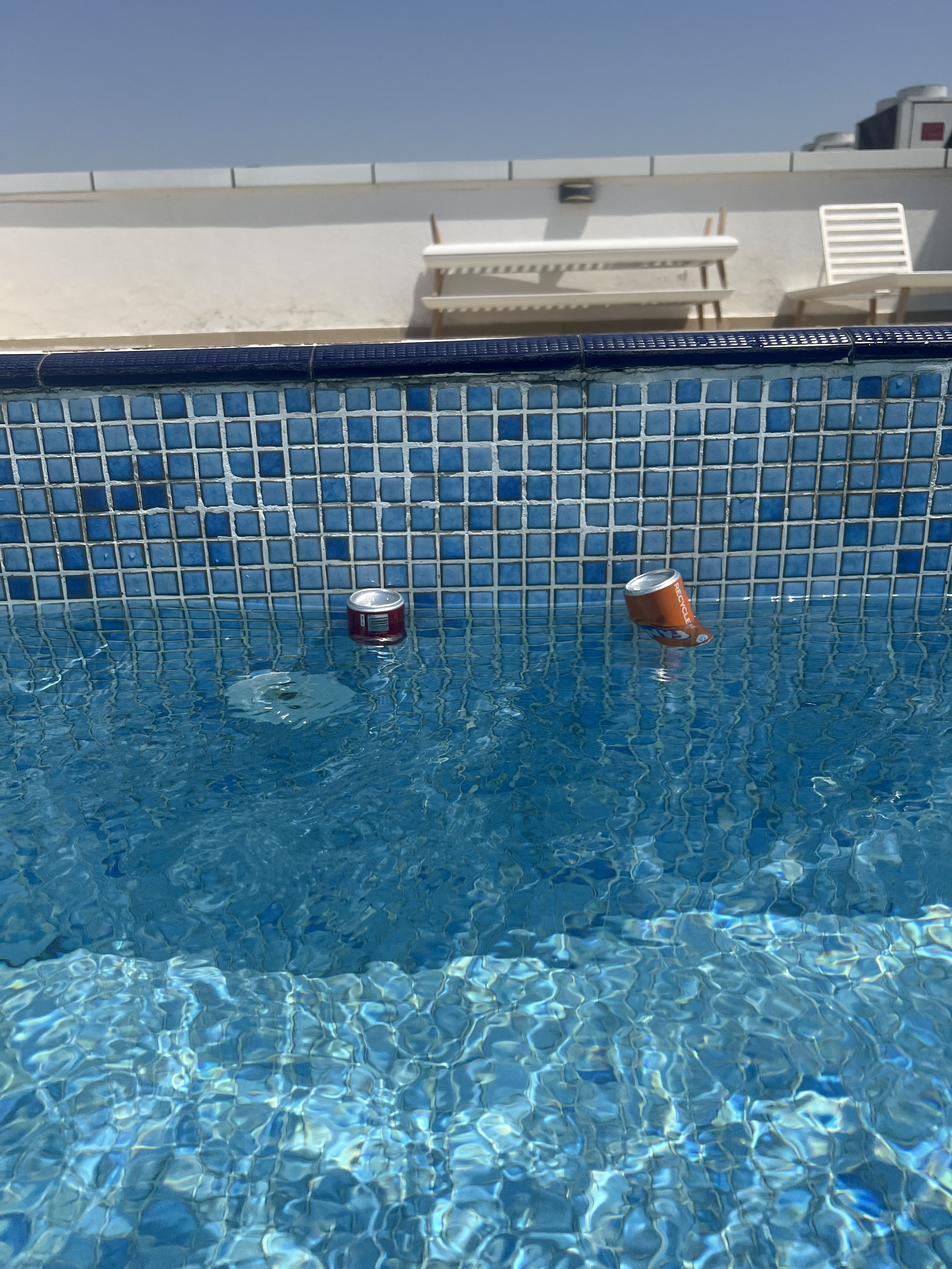debris: (618, 556, 716, 671), (342, 574, 410, 688)
